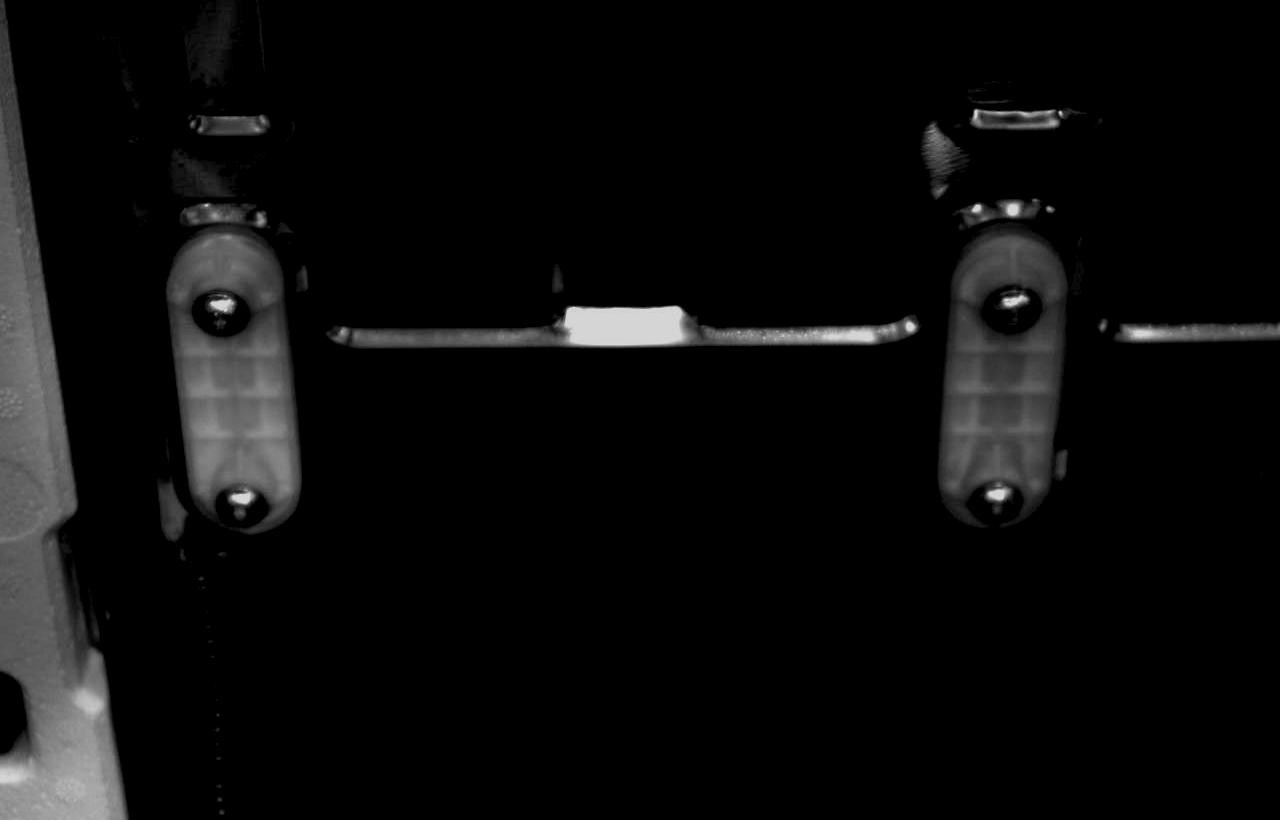vida-ok: (189, 277, 260, 344), (981, 279, 1049, 347), (966, 465, 1031, 534), (207, 477, 273, 535)
